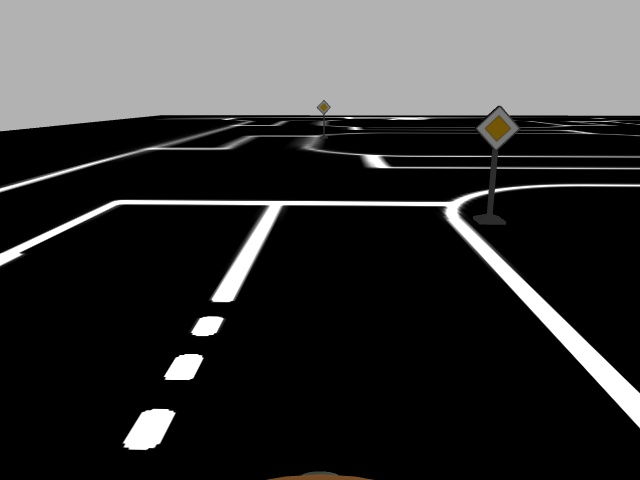priority: (474, 103, 520, 151), (316, 97, 332, 115)
